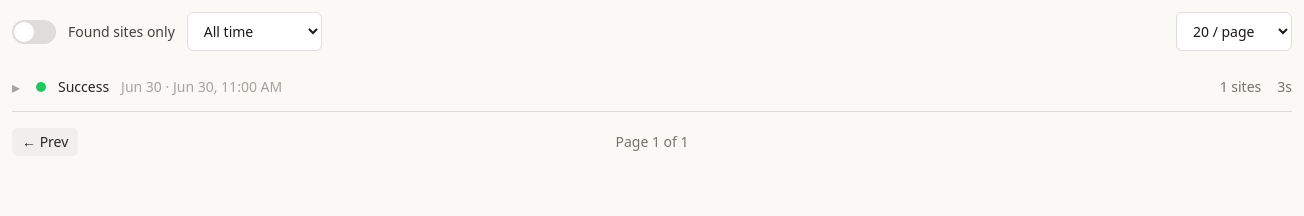
Test case: RunHistoryTab › expands a run to show its discovered sites
Step 1. Click the text "Success" → (84, 87), box [58, 77, 109, 97]
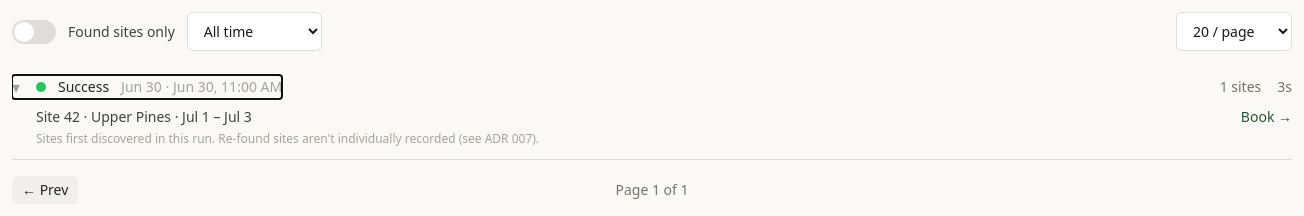
Expected: the text "Site 42 · Upper Pines · Jul 1 – Jul 3" is shown, [36, 107, 252, 127]
Expected: the text "first discovered in this run" is shown, [36, 130, 539, 147]
